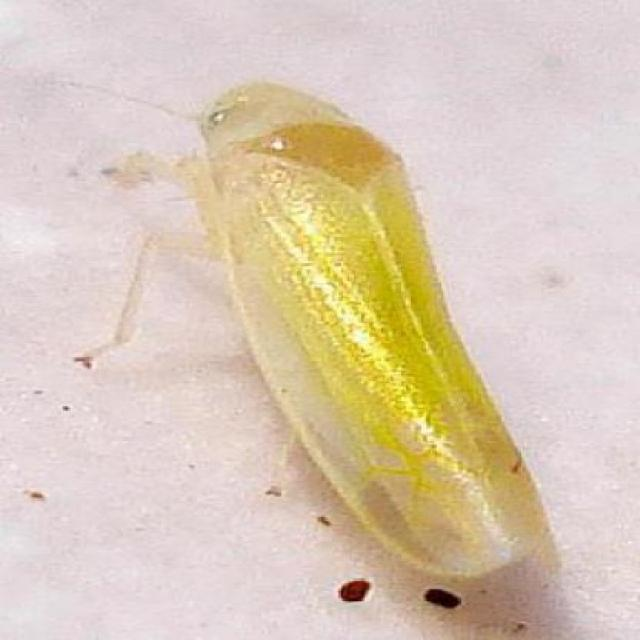green-leafhopper: (183, 77, 562, 575)
